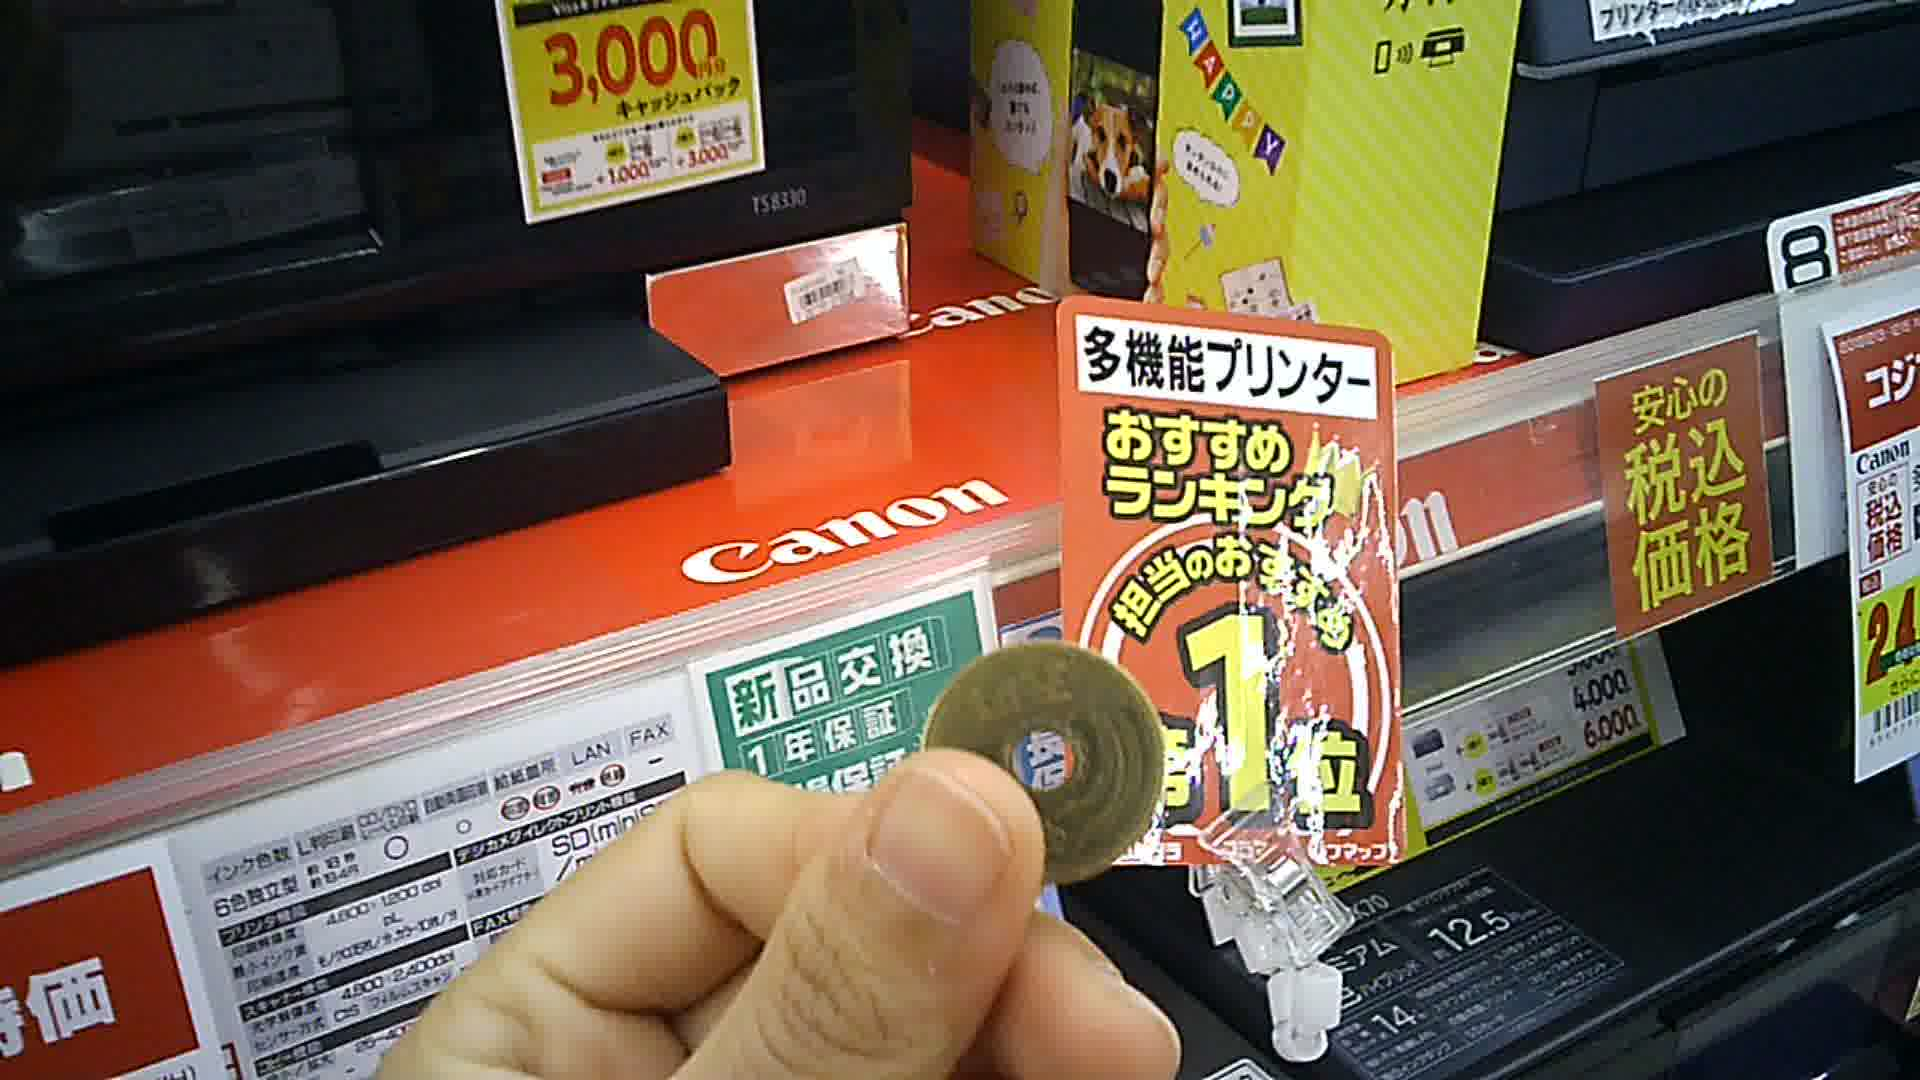5 Yen: (905, 634, 1163, 891)
